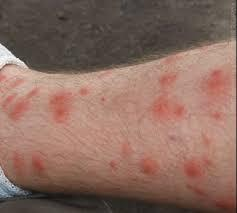Chiggers: (200, 66, 236, 101), (0, 85, 34, 121), (150, 92, 186, 119), (180, 155, 205, 180), (50, 92, 71, 121), (136, 155, 160, 174), (185, 182, 209, 198), (115, 140, 133, 158), (196, 130, 214, 148), (215, 195, 234, 211), (160, 72, 178, 86), (13, 152, 23, 176), (30, 154, 43, 172), (209, 108, 222, 121), (200, 155, 215, 166), (30, 85, 39, 97), (14, 77, 23, 87), (78, 86, 87, 95), (108, 160, 115, 169)
